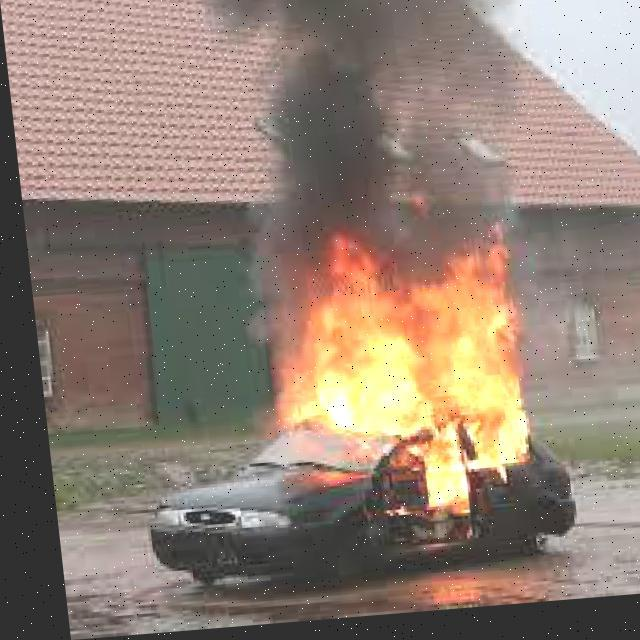Fire: (246, 210, 560, 497)
